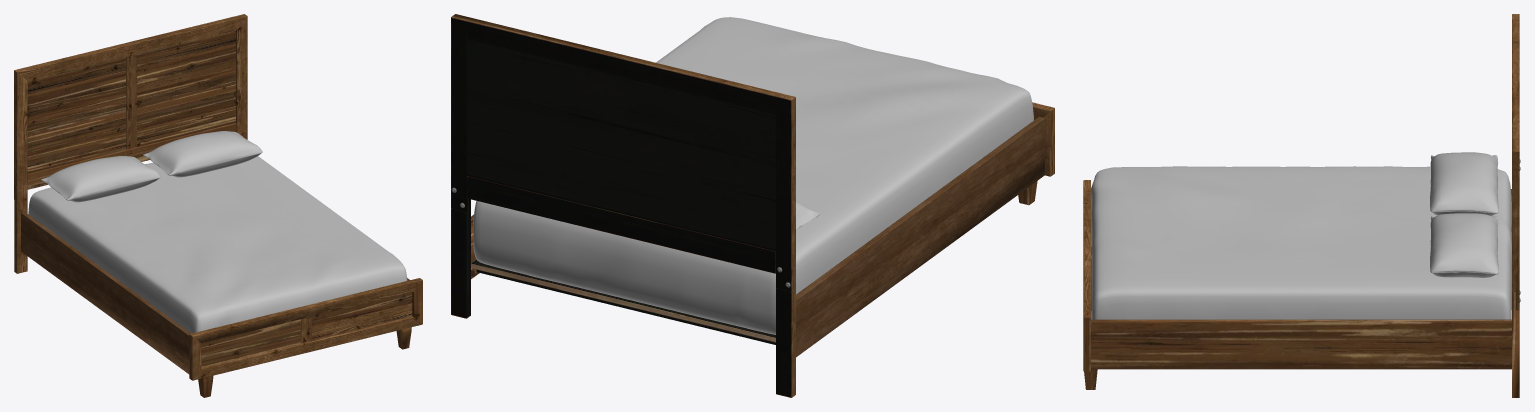
File: bed_abo_B075Z8767S.glb
The picture shows the model from 3 angles, left to right: view 1: azimuth 30°, elevation 25°; view 2: azimuth 150°, elevation 25°; view 3: azimuth 270°, elevation 25°; orthographic projection. The views are drawn at different scales.
Visible parts, largest first — view 1: RootNode; view 2: RootNode; view 3: RootNode.
Boxes of the visible parts, <box> form: RootNode: <box>14,14,422,397</box>; RootNode: <box>451,14,1054,397</box>; RootNode: <box>1083,14,1520,397</box>.
Size of the model in its own units: 1.7 by 1.42 by 2.28.
1 material, 1 textured.
